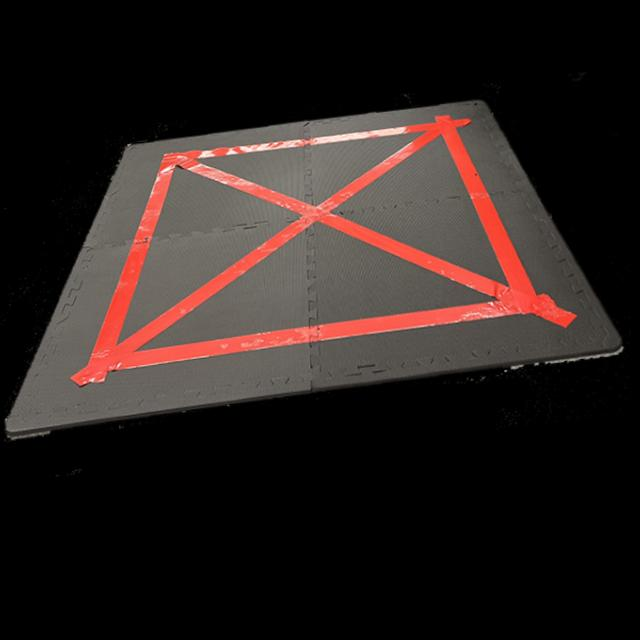landingPads: (7, 94, 628, 438)
